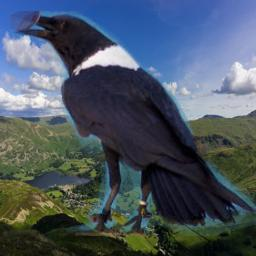Crow: (10, 11, 256, 236)
